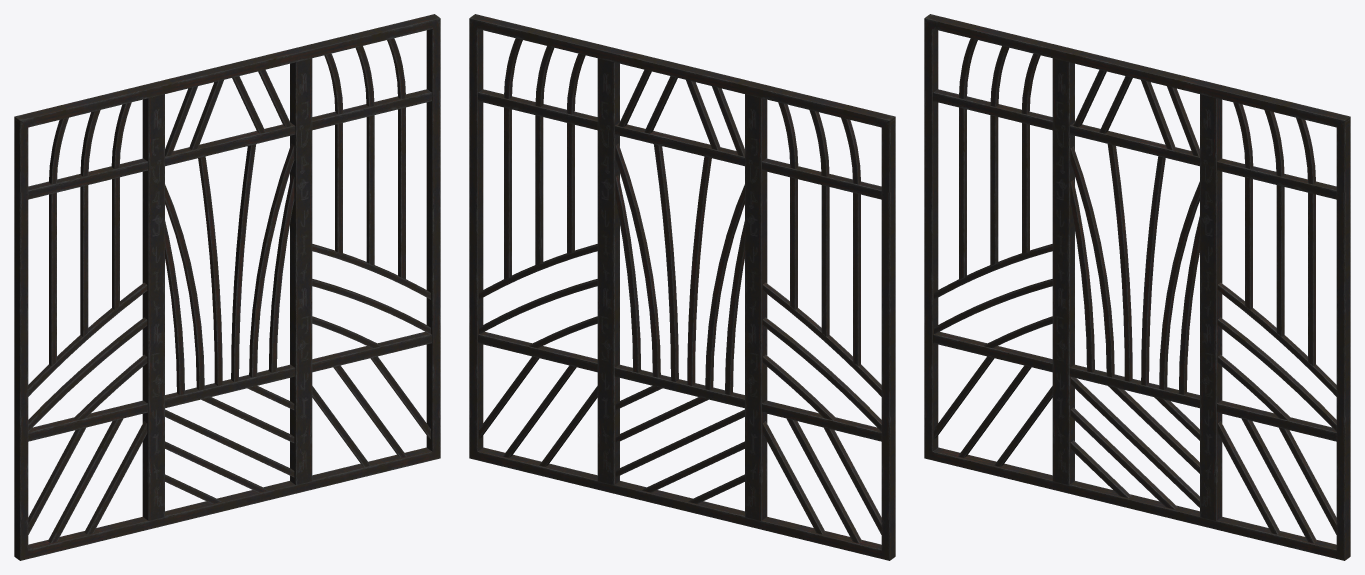
Rendered from tth_metal_bars_01.dae.
3 renders of one model, left to right at view 1: azimuth 30°, elevation 25°; view 2: azimuth 150°, elevation 25°; view 3: azimuth 330°, elevation 25°, orthographic.
Parts seen in each view (by area): view 1: Normal; view 2: Normal; view 3: Normal.
Part boxes in pixels (box(x1,y1,x2,y2)): Normal: box(14, 14, 440, 560); Normal: box(469, 14, 895, 560); Normal: box(924, 14, 1350, 560).
Size of the model in its own units: 4 by 4 by 0.0977.
1 material, 1 textured.
